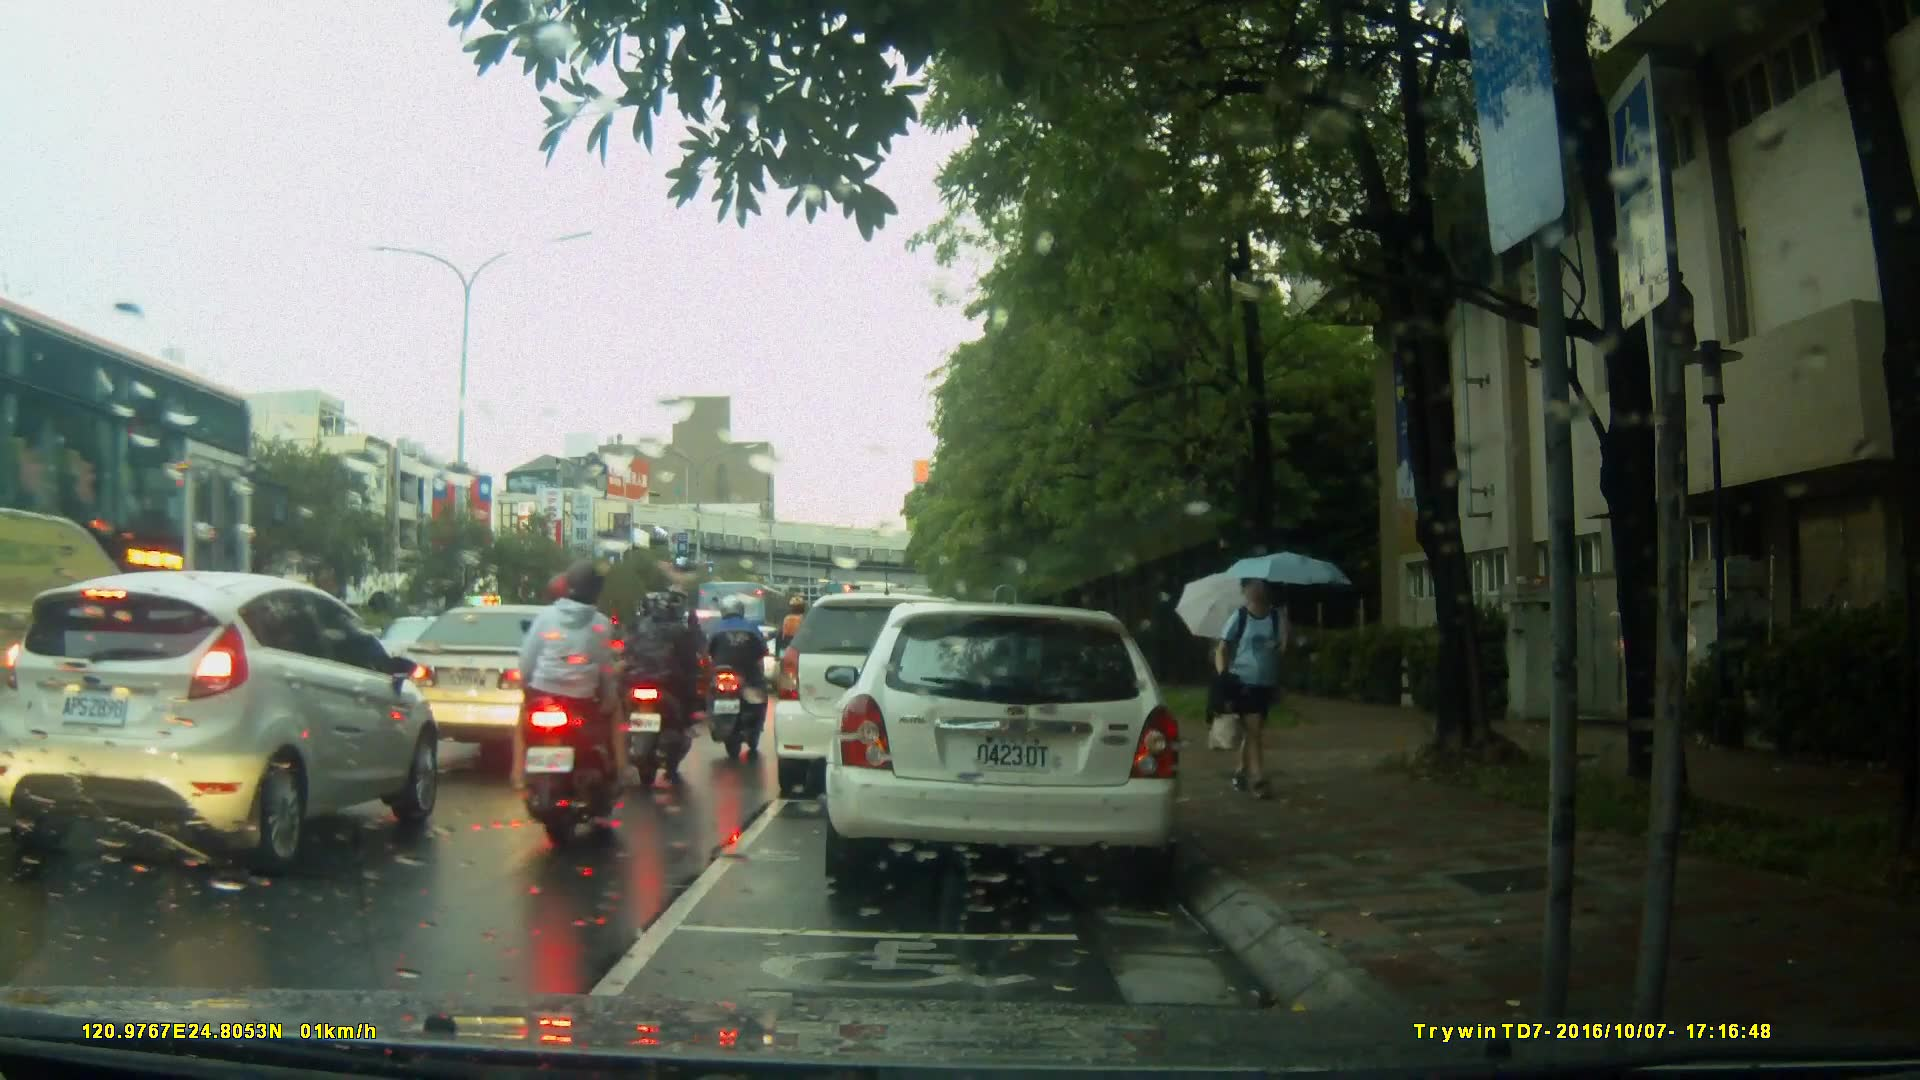pedestrian: (1210, 557, 1299, 810), (1219, 595, 1268, 744)
rider: (511, 552, 643, 861), (625, 588, 702, 790), (709, 590, 771, 752), (780, 594, 820, 742)
vehicle: (5, 568, 446, 875), (1, 291, 262, 765), (835, 594, 1194, 898), (776, 590, 1026, 784), (380, 603, 643, 768), (602, 620, 728, 718), (697, 580, 809, 672)
